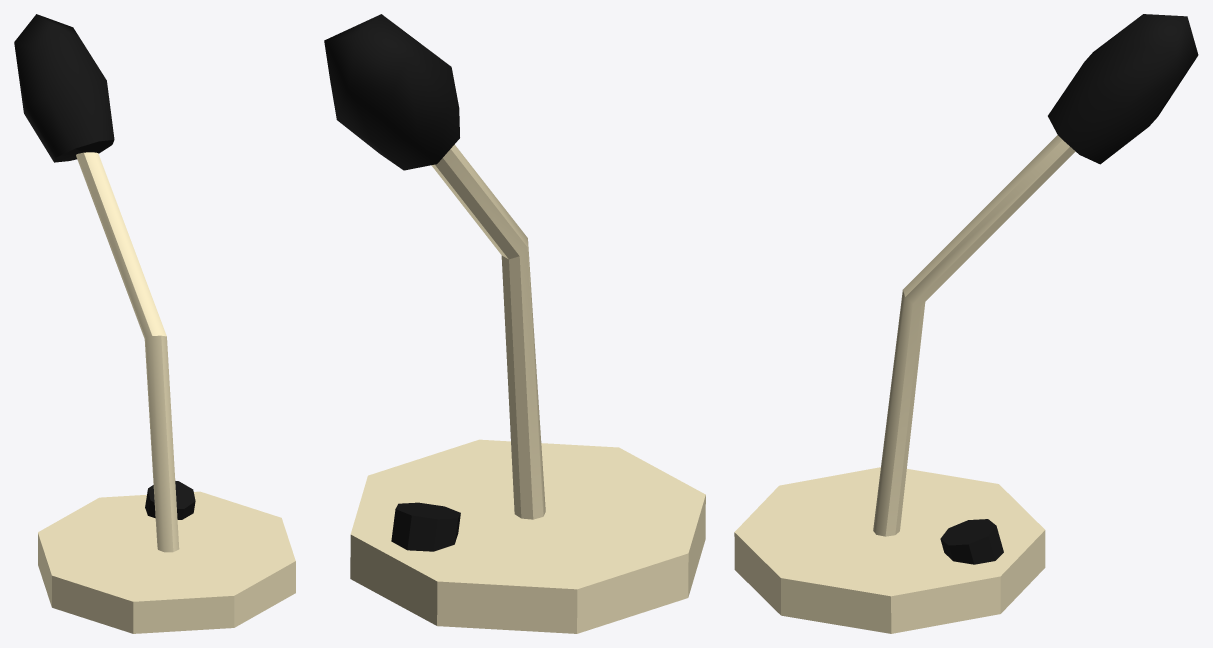
Rendered from Microphone.glb.
The picture shows the model from 3 angles, left to right: view 1: azimuth 30°, elevation 25°; view 2: azimuth 150°, elevation 25°; view 3: azimuth 270°, elevation 25°; orthographic projection. The views are drawn at different scales.
Parts seen in each view (by area): view 1: polySurface5; view 2: polySurface5; view 3: polySurface5.
Part boxes in pixels (x1,y1,x2,y2): polySurface5: [14, 14, 295, 633]; polySurface5: [324, 14, 705, 633]; polySurface5: [734, 14, 1198, 633].
Size of the model in its own units: 9.83 by 19.31 by 14.66.
Materials: 1 (1 with a texture image).
